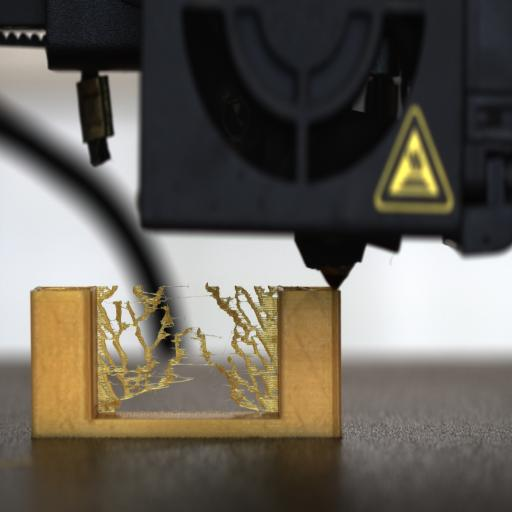stringing: (94, 283, 279, 412)
